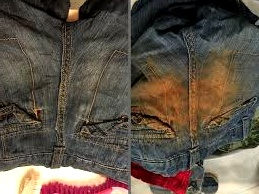earth: (195, 50, 234, 124), (141, 79, 188, 122)
